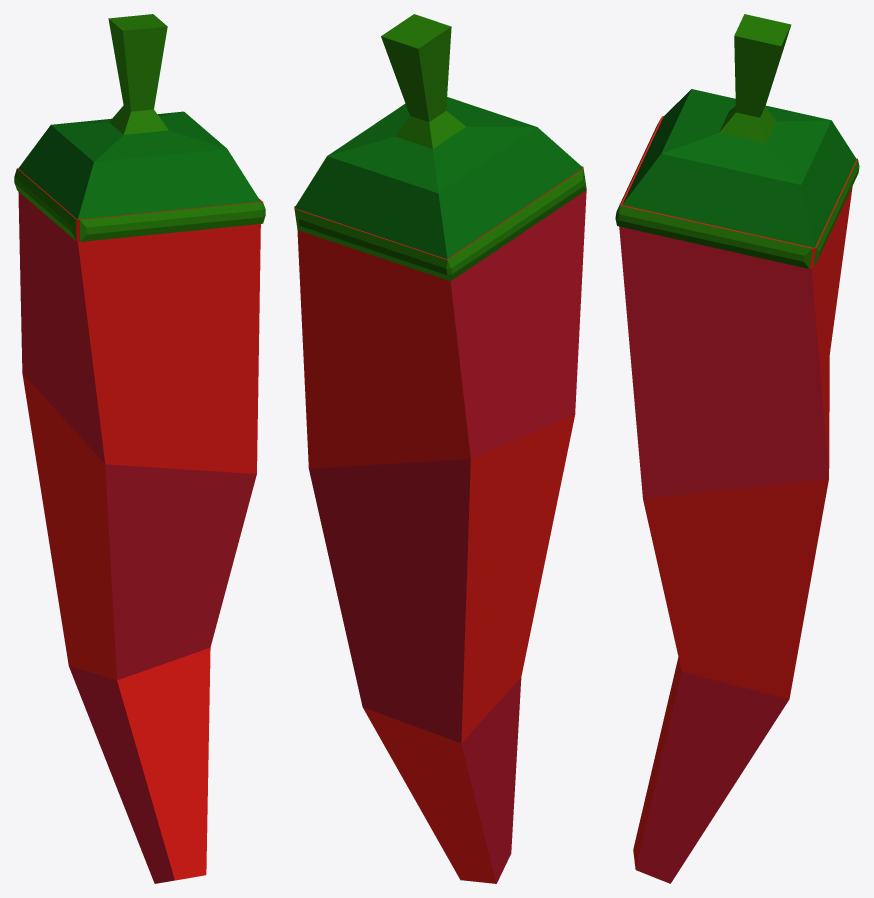
Rendered from Pepper.glb.
3 views of the same model, side by side, from view 1: azimuth 30°, elevation 25°; view 2: azimuth 150°, elevation 25°; view 3: azimuth 270°, elevation 25° (orthographic). The views are drawn at different scales.
Parts seen in each view (by area): view 1: Cube; view 2: Cube; view 3: Cube.
Boxes of the visible parts, left/top/right/bottom form: Cube: left=14, top=14, right=265, bottom=883; Cube: left=294, top=14, right=586, bottom=883; Cube: left=615, top=14, right=859, bottom=883.
Size of the model in its own units: 2.56 by 10.04 by 2.59.
